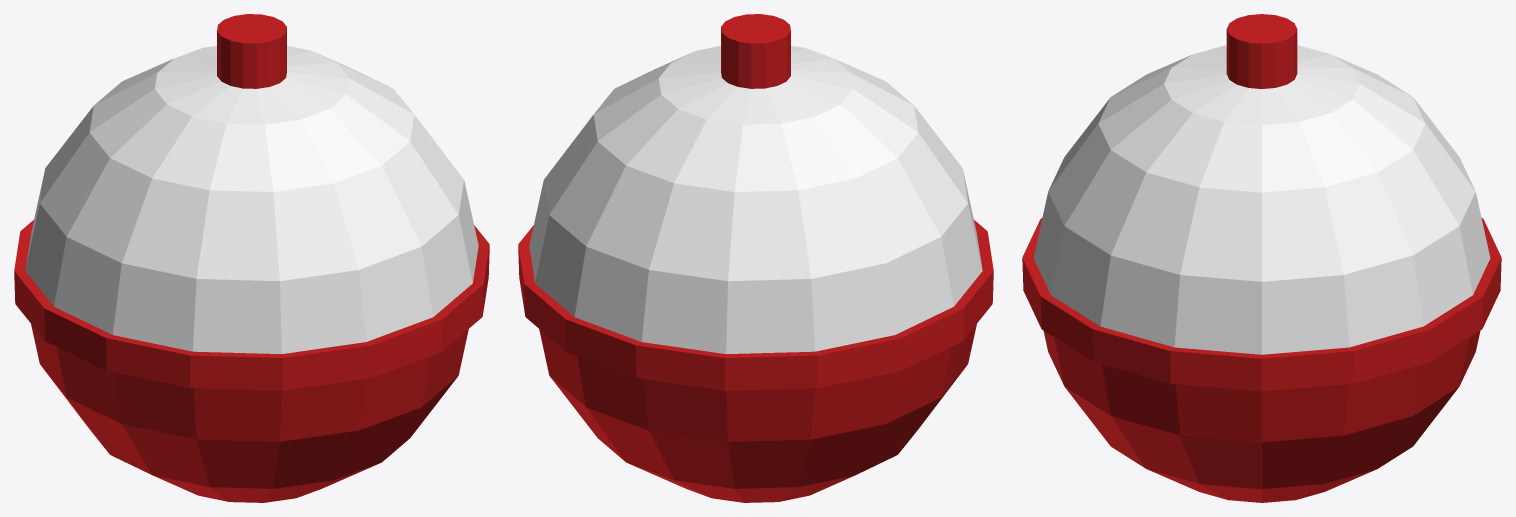
File: bobber.glb
3 renders of one model, left to right at view 1: azimuth 30°, elevation 25°; view 2: azimuth 150°, elevation 25°; view 3: azimuth 270°, elevation 25°, orthographic.
Parts seen in each view (by area): view 1: Sphere; view 2: Sphere; view 3: Sphere.
Boxes of the visible parts, bbox=[...] form: Sphere: bbox=[14, 14, 489, 502]; Sphere: bbox=[518, 14, 993, 502]; Sphere: bbox=[1022, 14, 1501, 502].
Size of the model in its own units: 2.07 by 2.16 by 2.07.
